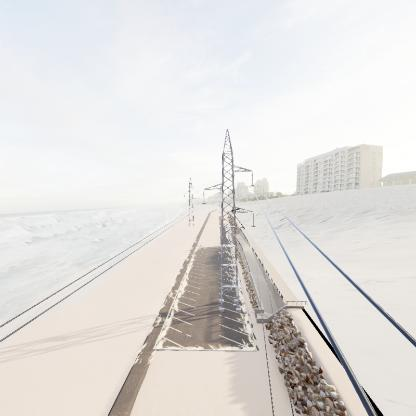tower: (200, 131, 258, 312)
